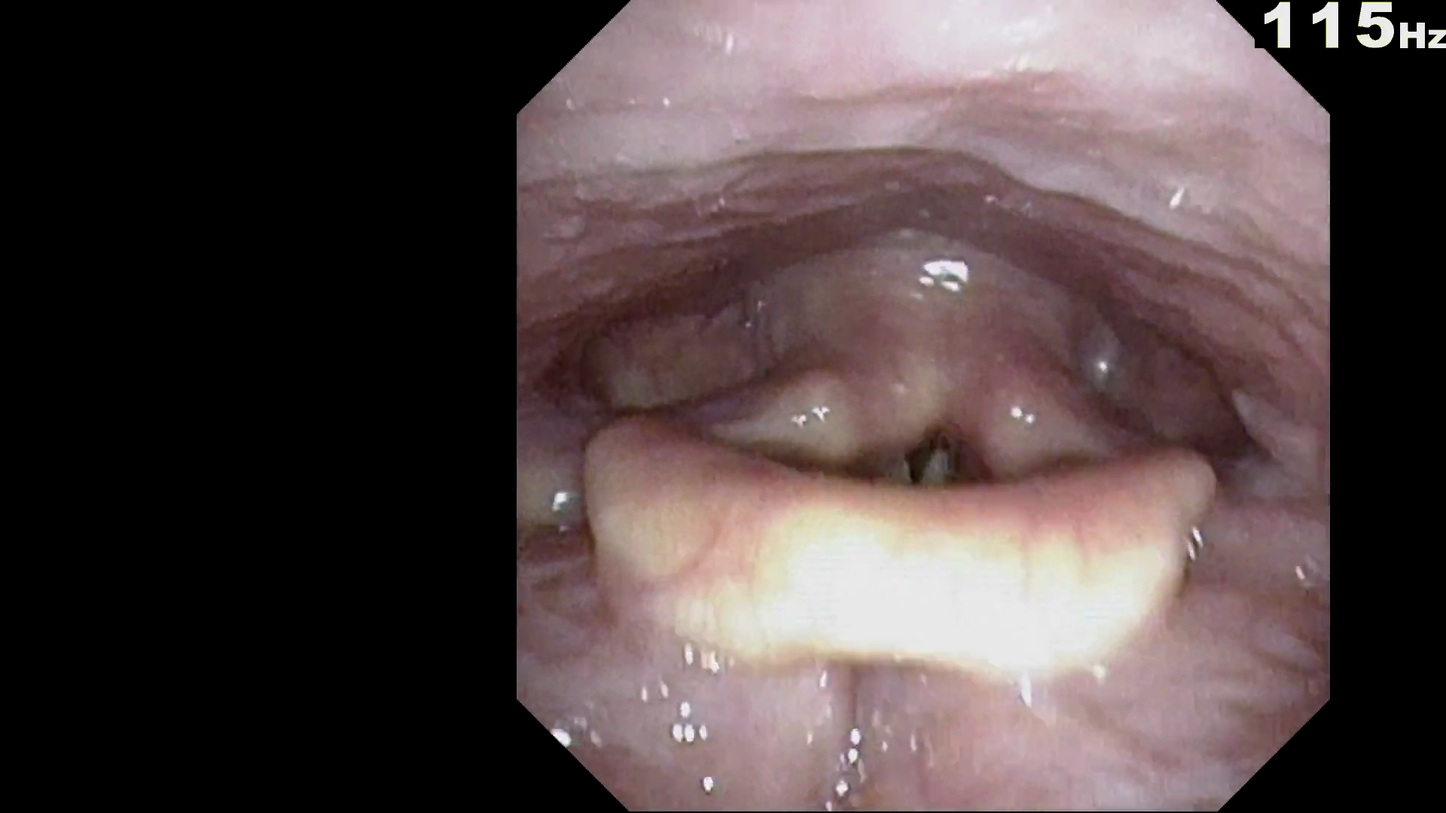epiglottis: (565, 342, 1259, 682)
trachea: (839, 349, 1014, 570)
